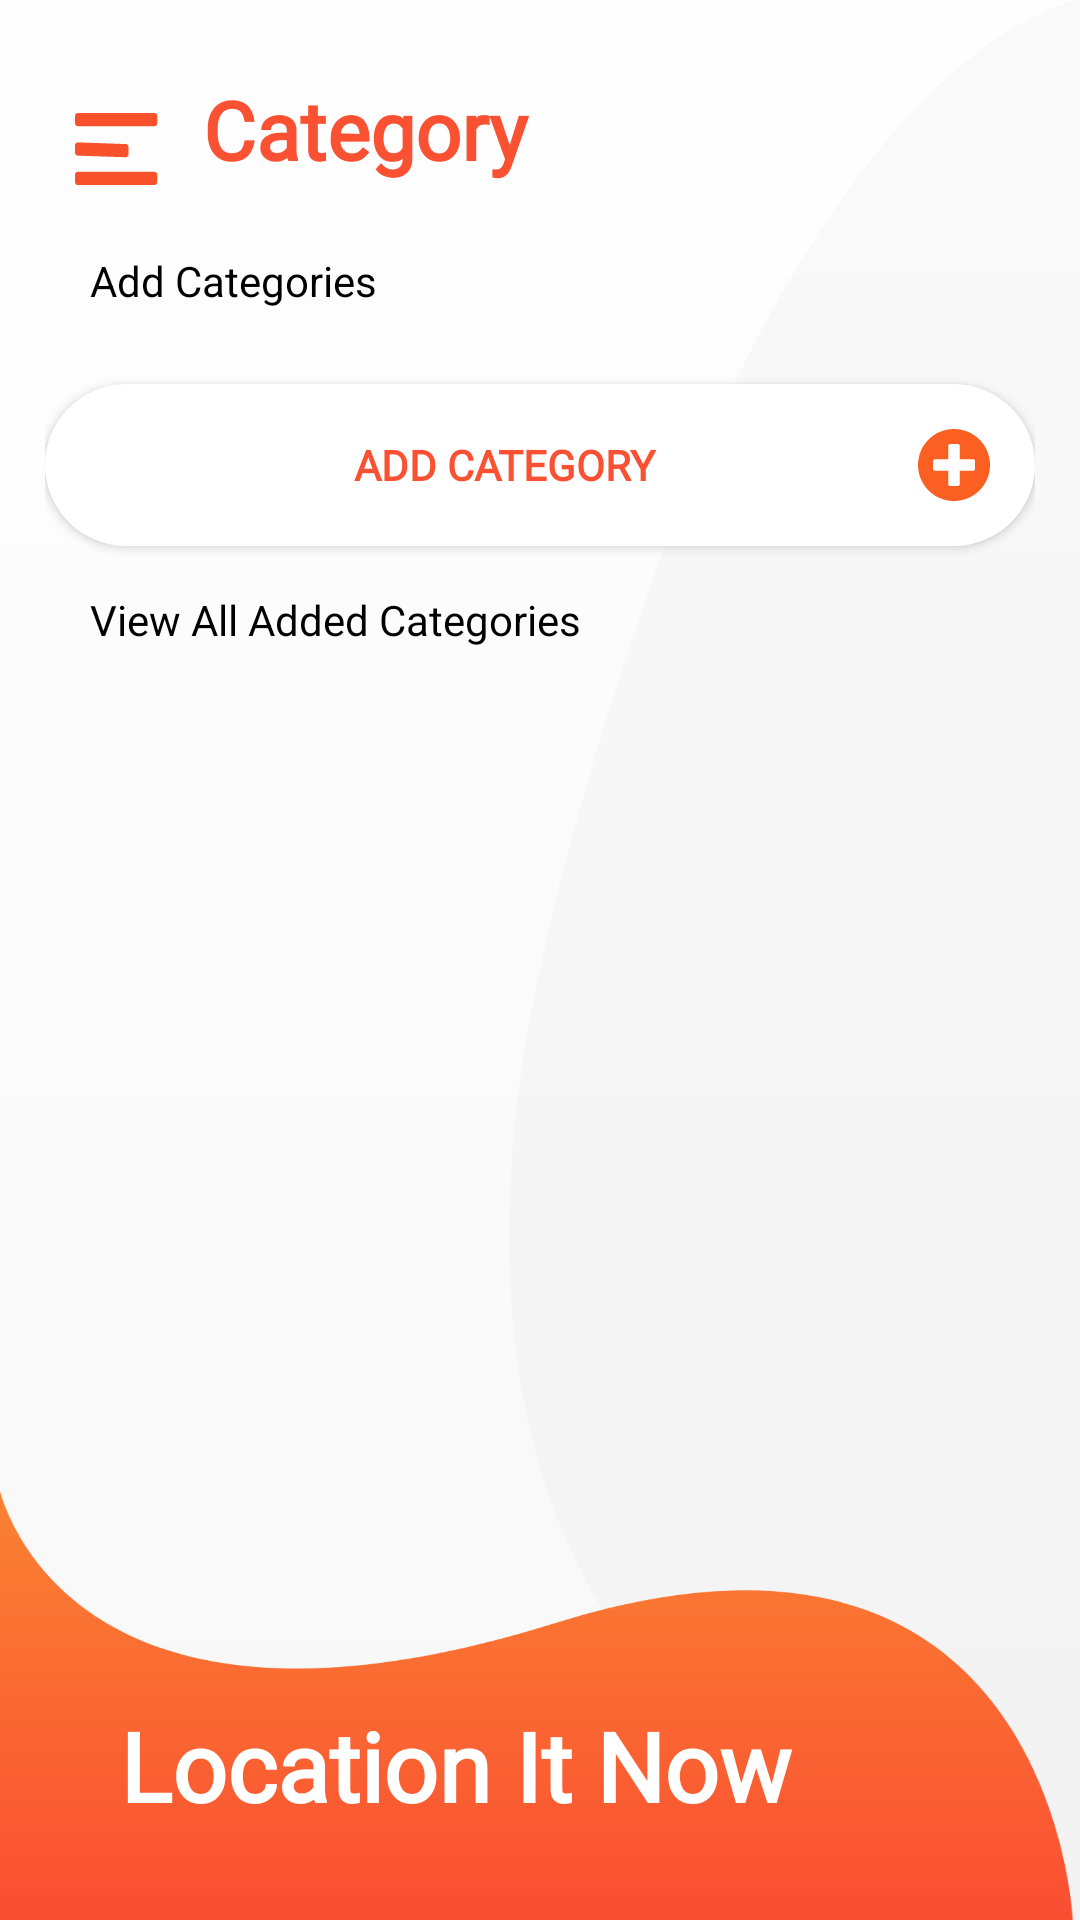

Screen size 1080*1920. Icon name, then its center in pixels as [x,y]:
navigation drawer: [116,149]
